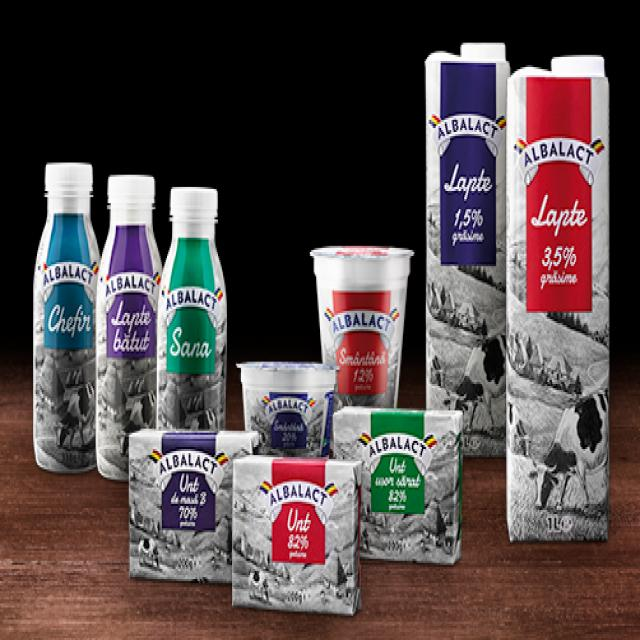butter: (331, 402, 465, 564), (126, 429, 263, 585), (231, 455, 362, 618)
milk: (506, 51, 613, 546), (423, 42, 508, 459)
